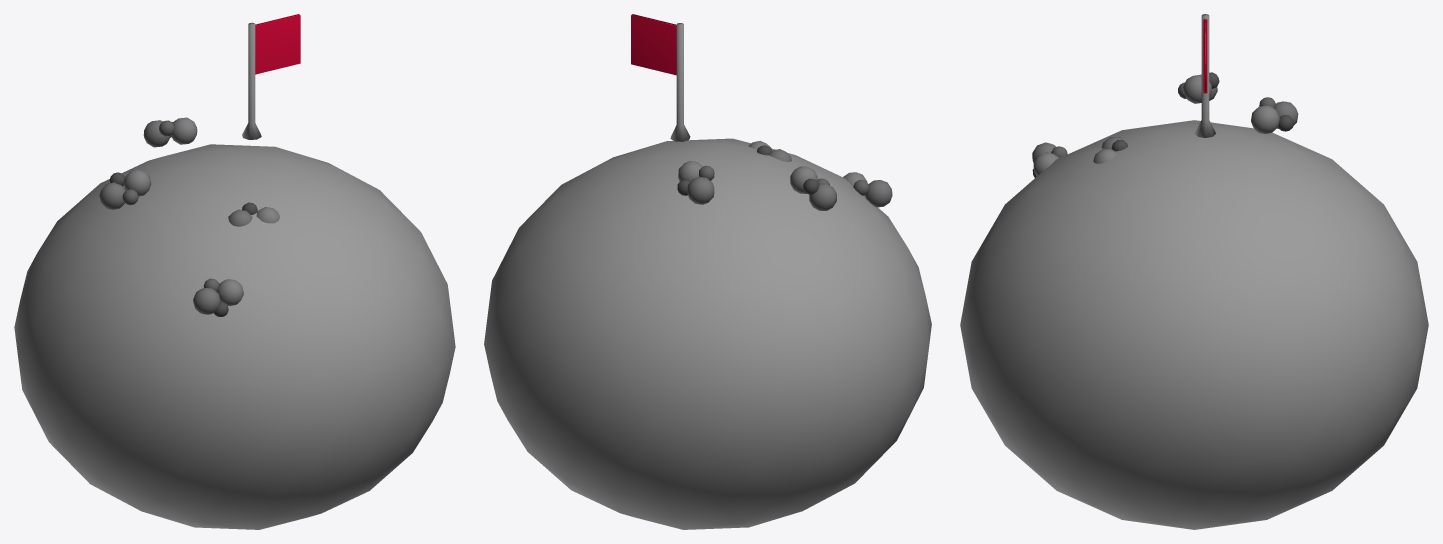
Rendered from AboutMe.glb.
3 renders of one model, left to right at view 1: azimuth 30°, elevation 25°; view 2: azimuth 150°, elevation 25°; view 3: azimuth 270°, elevation 25°, orthographic. The views are drawn at different scales.
Parts seen in each view (by area): view 1: Icosphere, Cube, Cylinder, Icosphere.015, Icosphere.002, Icosphere.010, Icosphere.014, Icosphere.003; view 2: Icosphere, Cube, Cylinder, Icosphere.011, Icosphere.015, Icosphere.002; view 3: Icosphere, Cylinder, Icosphere.010.
Boxes of the visible parts, bbox=[...] form: Icosphere: bbox=[14, 144, 455, 529]; Cube: bbox=[255, 14, 300, 74]; Cylinder: bbox=[242, 22, 261, 139]; Icosphere.015: bbox=[193, 288, 220, 314]; Icosphere.002: bbox=[99, 182, 125, 209]; Icosphere.010: bbox=[171, 117, 197, 144]; Icosphere.014: bbox=[217, 279, 243, 305]; Icosphere.003: bbox=[124, 169, 151, 196]; Icosphere: bbox=[484, 138, 931, 529]; Cube: bbox=[631, 14, 676, 75]; Cylinder: bbox=[670, 23, 690, 141]; Icosphere.011: bbox=[687, 176, 714, 204]; Icosphere.015: bbox=[865, 180, 892, 207]; Icosphere.002: bbox=[809, 183, 836, 210]; Icosphere: bbox=[960, 120, 1428, 529]; Cylinder: bbox=[1194, 14, 1215, 137]; Icosphere.010: bbox=[1251, 105, 1279, 133].
Size of the model in its own units: 2.94 by 3.46 by 2.94.
